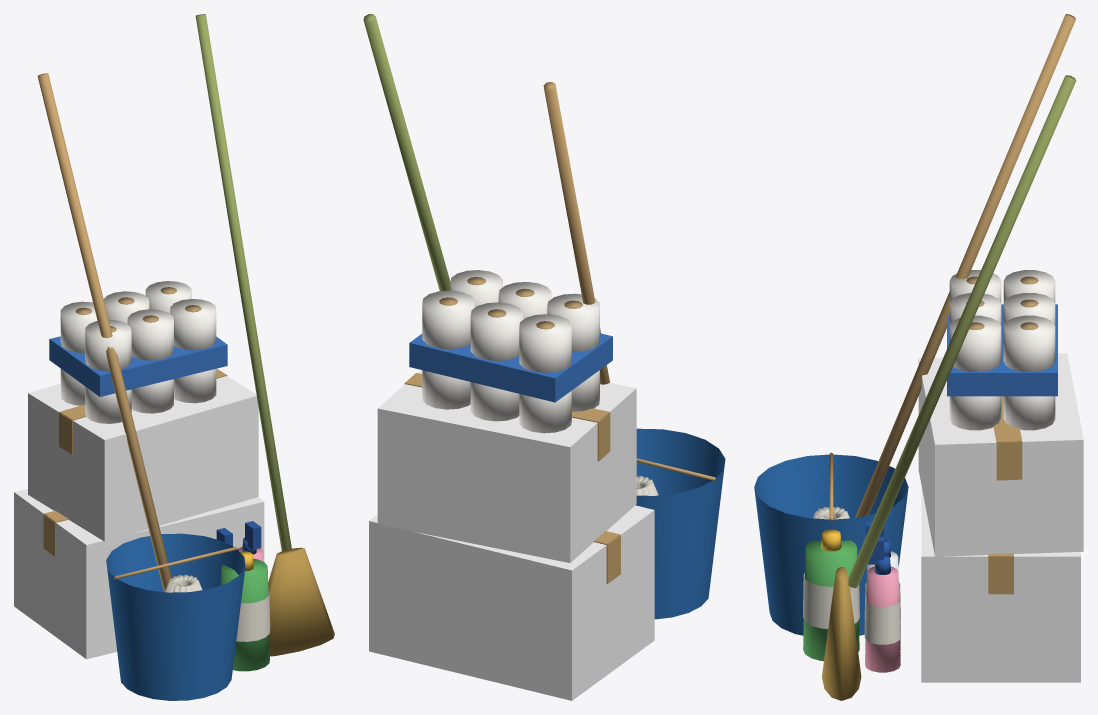
File: supplies.glb
3 renders of one model, left to right at view 1: azimuth 30°, elevation 25°; view 2: azimuth 150°, elevation 25°; view 3: azimuth 270°, elevation 25°, orthographic. The views are drawn at different scales.
Parts seen in each view (by area): view 1: SupplyCarton1, SupplyBucket, SupplyCarton0, SupplyBroomHandle, SupplyMopHandle, SupplyBroomHead, SupplyWrapBand, SupplyJug, SupplyRoll111, SupplyRoll211, SupplyRoll011, SupplyRoll001 (+9 smaller); view 2: SupplyCarton0, SupplyCarton1, SupplyBucket, SupplyWrapBand, SupplyBroomHandle, SupplyMopHandle, SupplyRoll001, SupplyRoll101, SupplyRoll201, SupplyRoll011, SupplyRoll000, SupplyRoll100 (+6 smaller); view 3: SupplyCarton1, SupplyCarton0, SupplyBucket, SupplyBroomHandle, SupplyMopHandle, SupplyBroomHead, SupplyWrapBand, SupplyJug, SupplyRoll201, SupplySpray1, SupplyRoll211, SupplyRoll210 (+9 smaller).
Boxes of the visible parts, left/top/right/bottom form: SupplyCarton1: left=28, top=376, right=258, bottom=541; SupplyBucket: left=106, top=533, right=245, bottom=700; SupplyCarton0: left=14, top=488, right=264, bottom=659; SupplyBroomHandle: left=195, top=14, right=291, bottom=551; SupplyMopHandle: left=37, top=73, right=171, bottom=591; SupplyBroomHead: left=268, top=547, right=334, bottom=656; SupplyWrapBand: left=49, top=336, right=227, bottom=396; SupplyJug: left=221, top=558, right=269, bottom=671; SupplyRoll111: left=127, top=309, right=173, bottom=360; SupplyRoll211: left=170, top=299, right=216, bottom=350; SupplyRoll011: left=85, top=320, right=131, bottom=370; SupplyRoll001: left=60, top=301, right=97, bottom=352; SupplyCarton0: left=369, top=505, right=654, bottom=700; SupplyCarton1: left=377, top=370, right=636, bottom=562; SupplyBucket: left=636, top=428, right=725, bottom=619; SupplyWrapBand: left=409, top=333, right=612, bottom=402; SupplyBroomHandle: left=363, top=14, right=450, bottom=291; SupplyMopHandle: left=543, top=82, right=609, bottom=384; SupplyRoll001: left=519, top=314, right=571, bottom=372; SupplyRoll101: left=470, top=302, right=523, bottom=360; SupplyRoll201: left=422, top=290, right=474, bottom=349; SupplyRoll011: left=547, top=293, right=599, bottom=352; SupplyRoll000: left=519, top=390, right=571, bottom=433; SupplyRoll100: left=470, top=382, right=519, bottom=421; SupplyCarton1: left=918, top=353, right=1083, bottom=556; SupplyCarton0: left=921, top=485, right=1080, bottom=682; SupplyBucket: left=754, top=454, right=908, bottom=635; SupplyBroomHandle: left=848, top=75, right=1076, bottom=588; SupplyMopHandle: left=855, top=14, right=1075, bottom=517; SupplyBroomHead: left=822, top=567, right=861, bottom=700; SupplyWrapBand: left=947, top=304, right=1057, bottom=396; SupplyJug: left=803, top=540, right=859, bottom=661; SupplyRoll201: left=1003, top=315, right=1055, bottom=371; SupplySpray1: left=865, top=566, right=900, bottom=672; SupplyRoll211: left=949, top=315, right=1001, bottom=371; SupplyRoll210: left=949, top=396, right=1001, bottom=430.
Bounding box in the file's own units: 0.555 × 1.3 × 0.6405.
